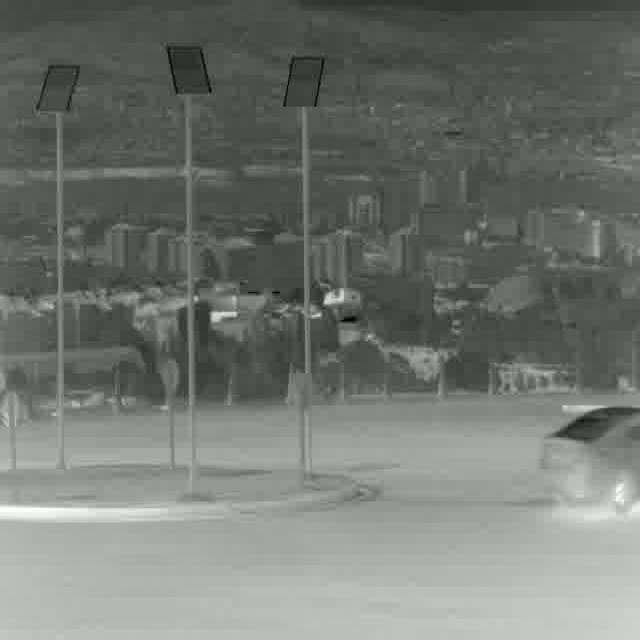Car: (538, 405, 640, 511)
